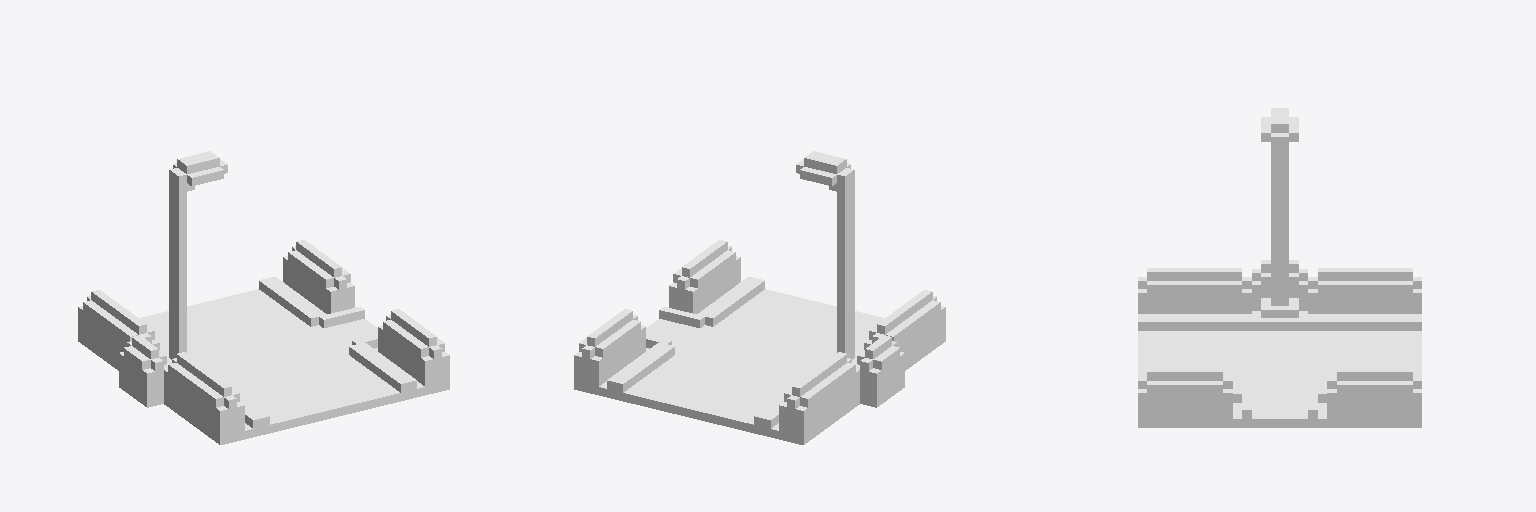
File: chem2.obj
The picture shows the model from 3 angles: view 1: azimuth 30°, elevation 25°; view 2: azimuth 150°, elevation 25°; view 3: azimuth 270°, elevation 25°; orthographic projection.
Visible parts, largest first — view 1: object 1; view 2: object 1; view 3: object 1.
Part boxes in pixels (bbox=[...]): object 1: bbox=[78, 151, 449, 444]; object 1: bbox=[574, 151, 945, 444]; object 1: bbox=[1138, 108, 1421, 427].
Size of the model in its own units: 3 by 2.6 by 3.